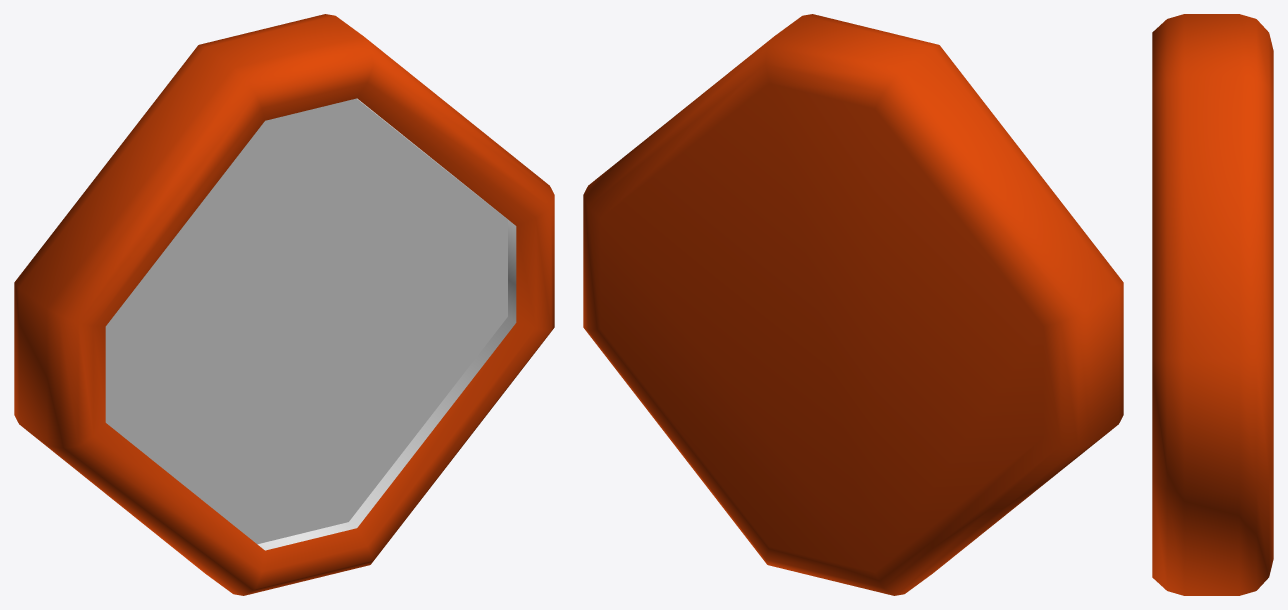
Rendered from Mirror_6C.fbx.
3 views of the same model, side by side, from view 1: azimuth 30°, elevation 25°; view 2: azimuth 150°, elevation 25°; view 3: azimuth 270°, elevation 25° (orthographic).
Visible parts, largest first — view 1: Mirror_6C; view 2: Mirror_6C; view 3: Mirror_6C.
Part boxes in pixels (x1,y1,x2,y2): Mirror_6C: (14, 14, 554, 595); Mirror_6C: (583, 14, 1123, 595); Mirror_6C: (1152, 14, 1273, 595).
Size of the model in its own units: 0.6558 by 0.6558 by 0.139.
